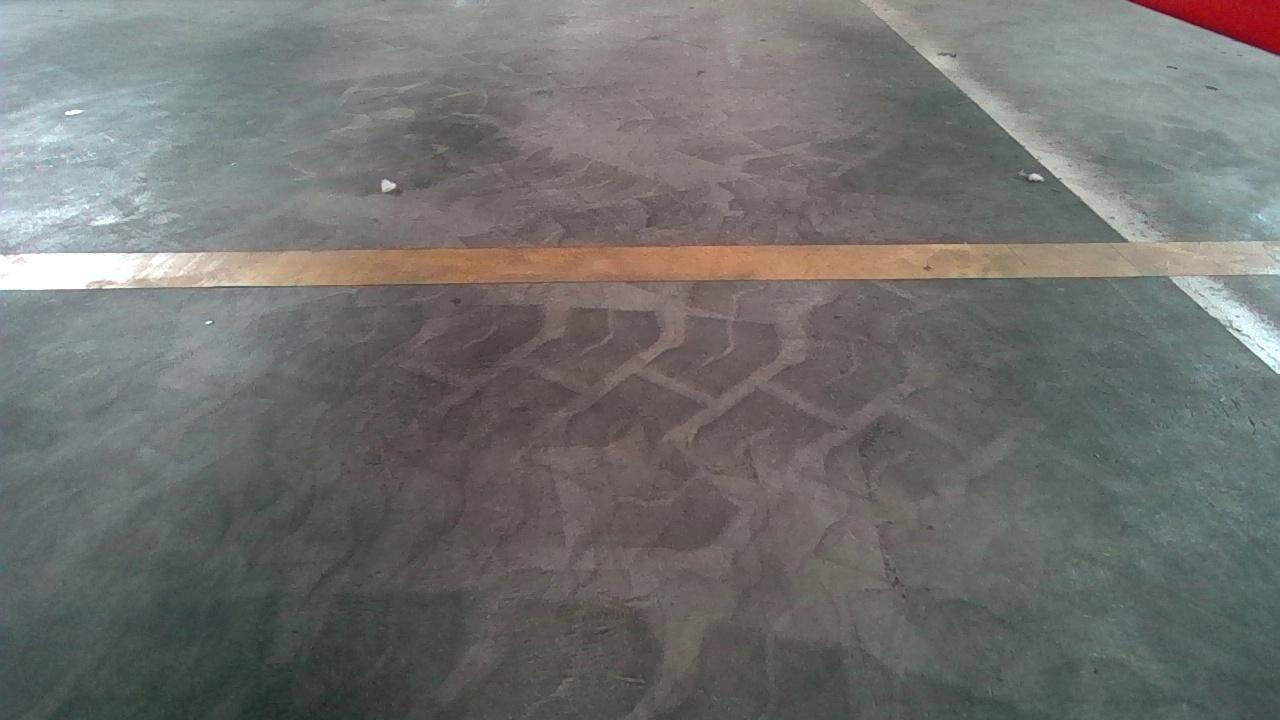yellow_line: (8, 232, 1280, 291)
